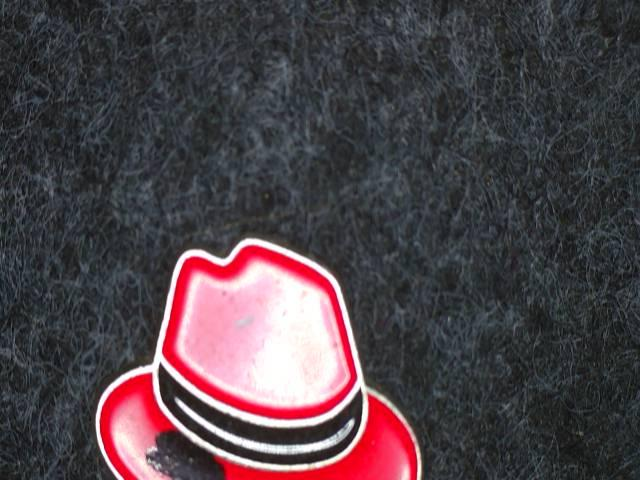Red-Hat: (50, 214, 447, 480)
Scratch: (131, 419, 250, 480)
